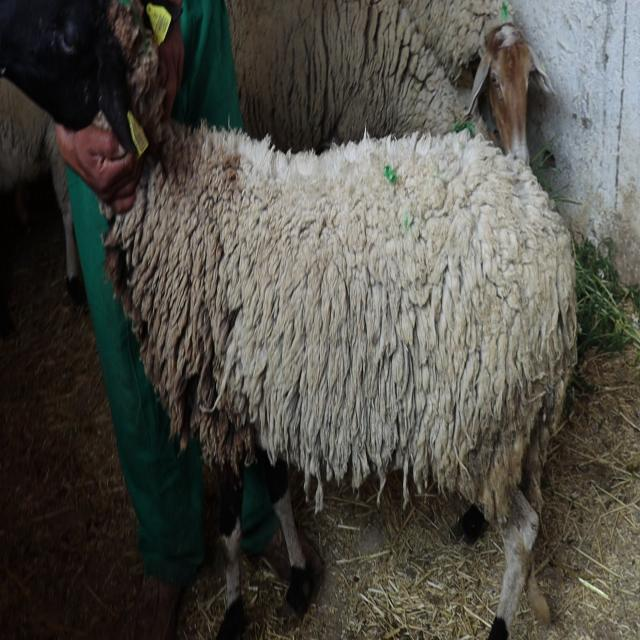Score_2: (0, 0, 577, 639)
